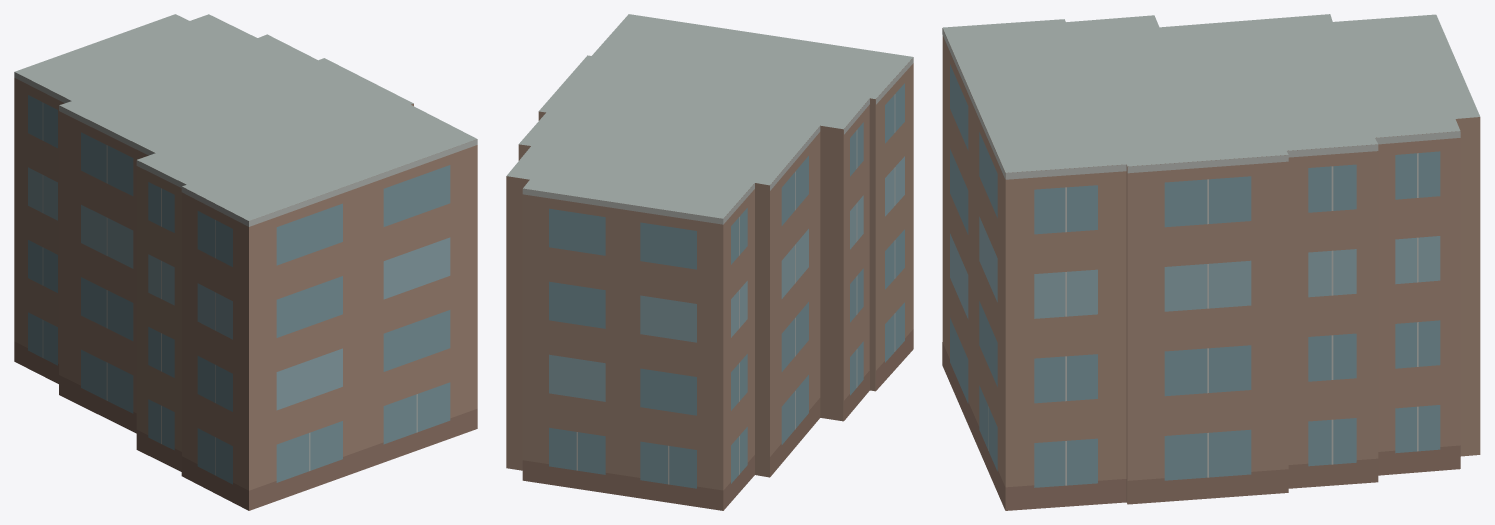
The model's file is survey-upis-32703908.glb.
3 views of the same model, side by side, from view 1: azimuth 30°, elevation 25°; view 2: azimuth 150°, elevation 25°; view 3: azimuth 270°, elevation 25° (orthographic). The views are drawn at different scales.
Parts seen in each view (by area): view 1: survey-upis-32703908.tmp; view 2: survey-upis-32703908.tmp; view 3: survey-upis-32703908.tmp.
Part boxes in pixels (x1,y1,x2,y2): survey-upis-32703908.tmp: (14, 14, 477, 510); survey-upis-32703908.tmp: (506, 14, 913, 510); survey-upis-32703908.tmp: (942, 14, 1480, 510).
Bounding box in the file's own units: 12.21 × 12.1 × 17.47.
